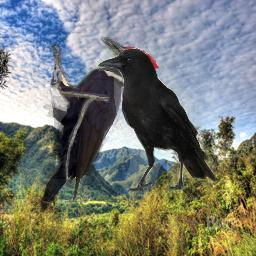Crow: (96, 48, 218, 193)
Woodpecker: (39, 37, 160, 213)
